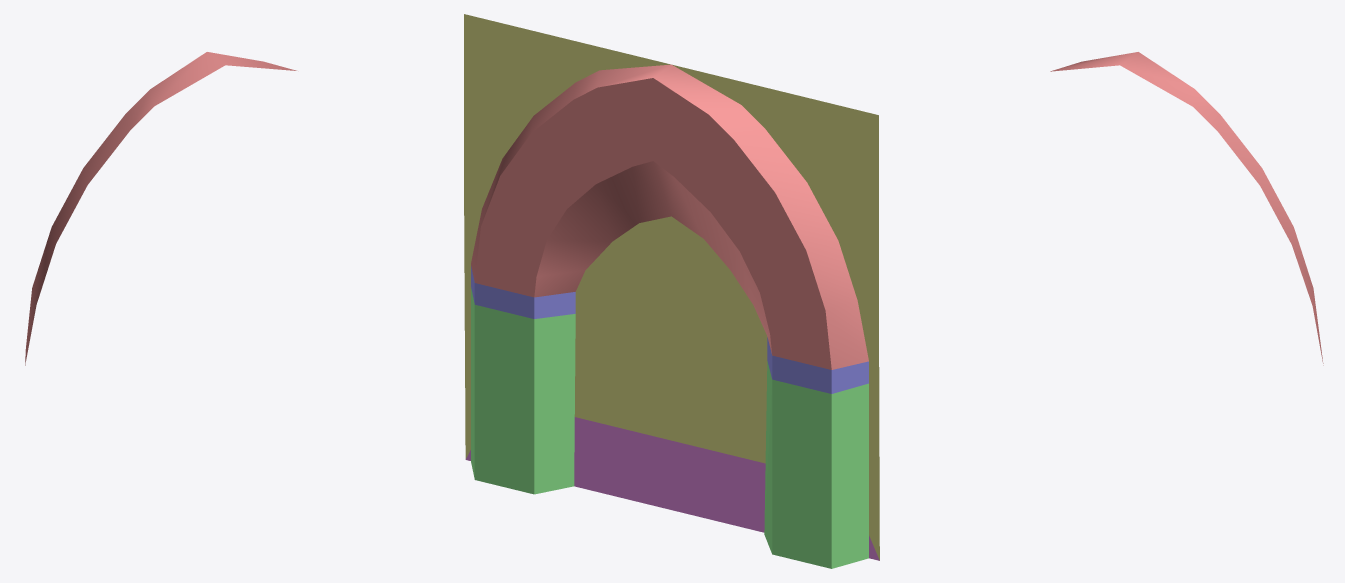
File: sylentemple_deco02.gltf
3 renders of one model, left to right at view 1: azimuth 30°, elevation 25°; view 2: azimuth 150°, elevation 25°; view 3: azimuth 330°, elevation 25°, orthographic.
Visible parts, largest first — view 1: sylentemple_deco02; view 2: sylentemple_deco02; view 3: sylentemple_deco02.
Boxes of the visible parts, x1,y1,x2,y2 form: sylentemple_deco02: (25,52,296,365); sylentemple_deco02: (464,14,879,568); sylentemple_deco02: (1050,52,1323,365).
Size of the model in its own units: 2.5 by 2.57 by 0.19.
